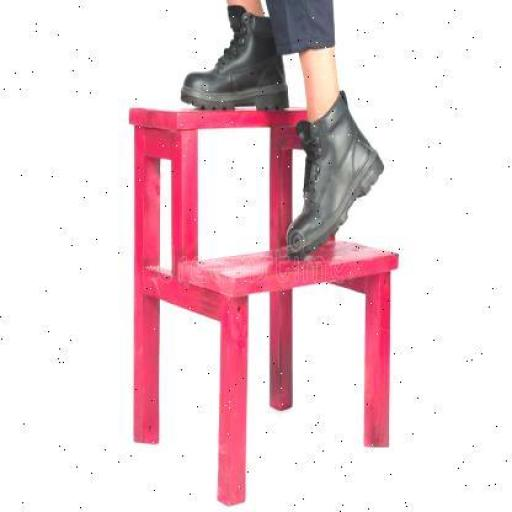safety_shoe: (300, 114, 370, 256), (199, 14, 287, 110)
